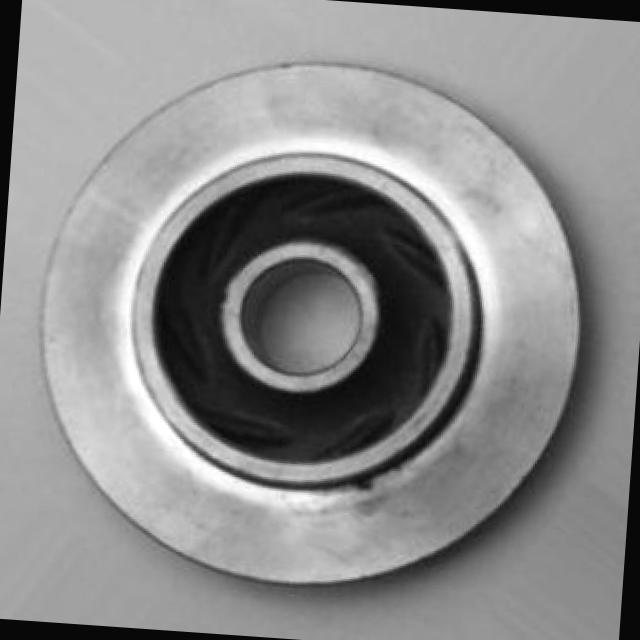Defect: (353, 472, 378, 494)
